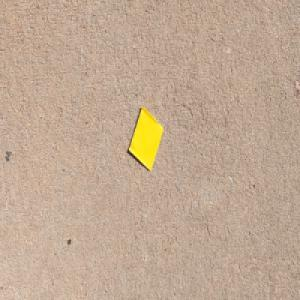PlasticPart: (128, 105, 163, 172)
